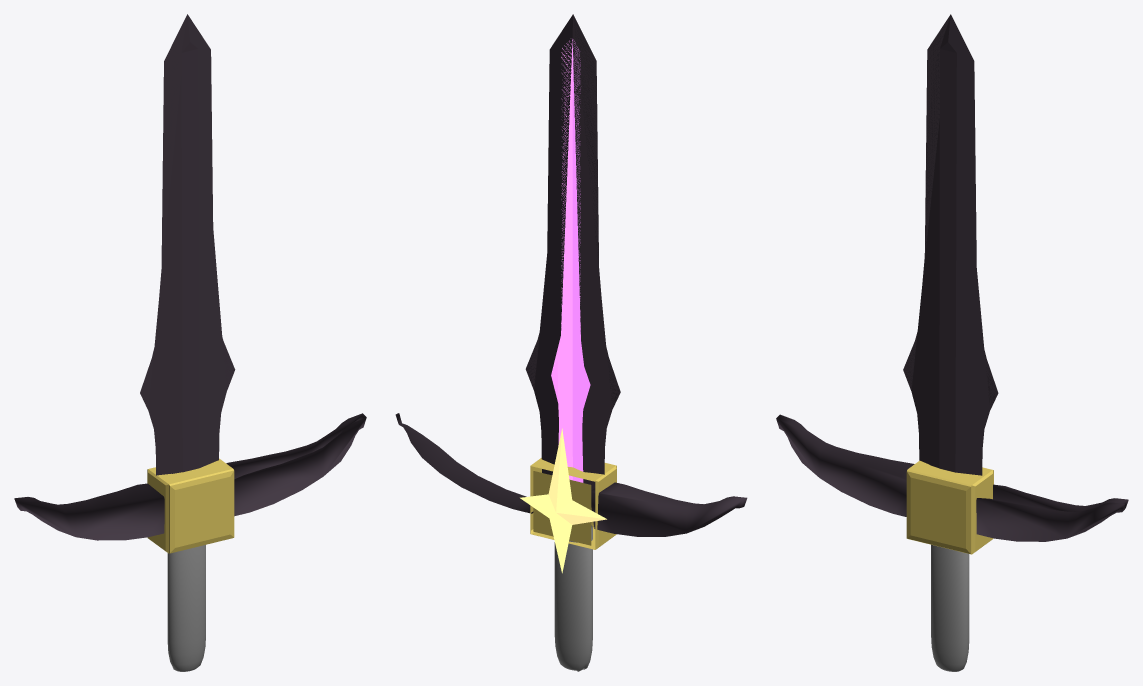
Rendered from basic_sword.glb.
3 views of the same model, side by side, from view 1: azimuth 30°, elevation 25°; view 2: azimuth 150°, elevation 25°; view 3: azimuth 330°, elevation 25° (orthographic).
Parts seen in each view (by area): view 1: Plane.001, Plane, Cube, Cylinder.001; view 2: Plane.001, Plane, Cube, Cylinder.001; view 3: Plane.001, Plane, Cube, Cylinder.001.
Part boxes in pixels (x1,y1,x2,y2): Plane.001: [140, 14, 235, 475]; Plane: [14, 413, 366, 540]; Cube: [147, 458, 234, 553]; Cylinder.001: [167, 545, 205, 671]; Plane.001: [525, 14, 620, 490]; Plane: [395, 413, 747, 536]; Cube: [520, 428, 616, 573]; Cylinder.001: [554, 525, 592, 671]; Plane.001: [903, 14, 998, 475]; Plane: [776, 414, 1128, 541]; Cube: [906, 460, 993, 554]; Cylinder.001: [931, 544, 969, 671].
Size of the model in its own units: 10.27 by 18.43 by 1.51.
